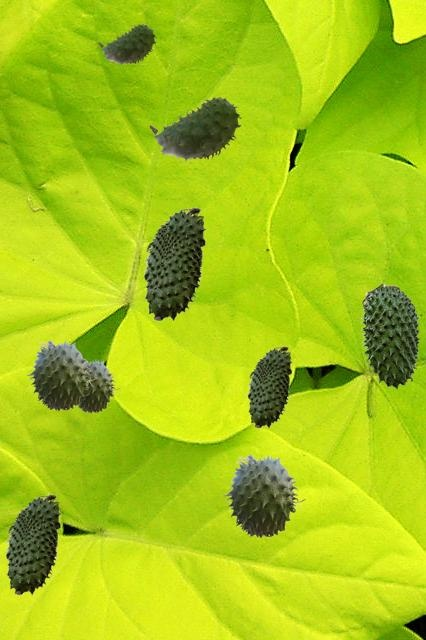guyabano: (143, 207, 205, 320), (222, 453, 305, 537), (360, 282, 420, 388), (149, 97, 240, 162), (5, 494, 60, 594), (26, 339, 96, 410), (247, 346, 291, 427), (74, 358, 119, 412), (98, 24, 155, 65)
